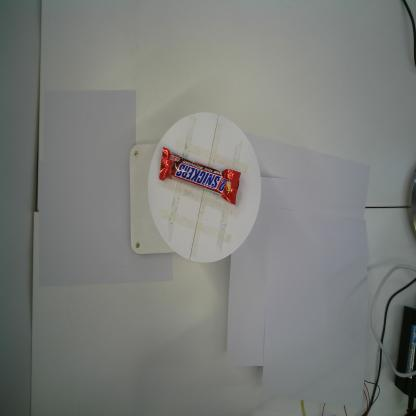Chocolate: (158, 145, 242, 206)
